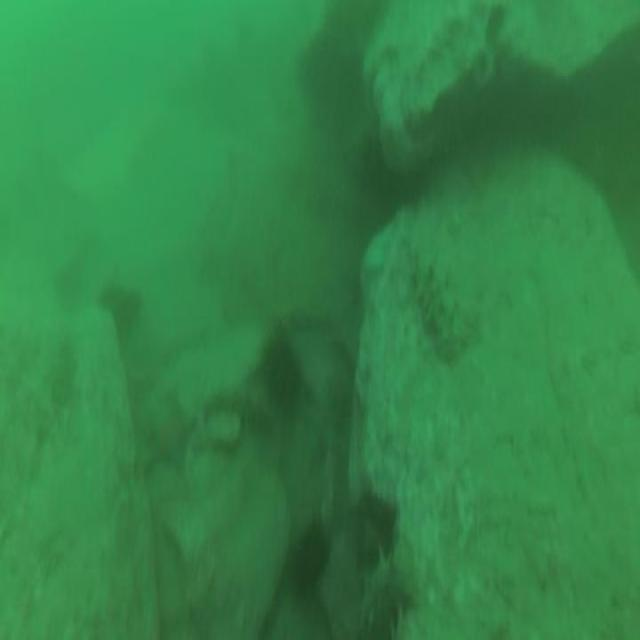echinus: (253, 320, 306, 416), (282, 512, 337, 599)
holothurian: (408, 243, 464, 362), (353, 540, 419, 640)
starfish: (137, 388, 199, 480)
